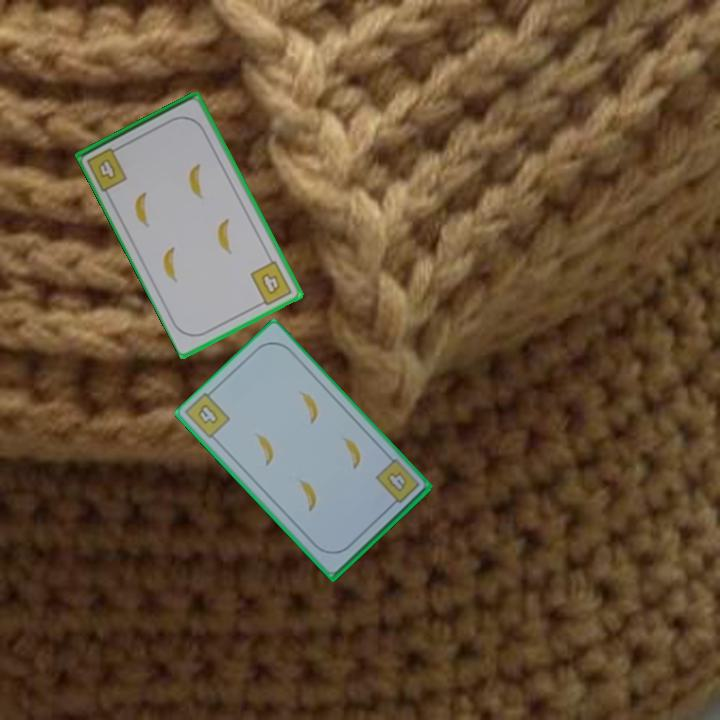4b: (372, 457, 422, 511), (247, 257, 295, 310), (83, 142, 130, 194), (193, 400, 221, 427)
